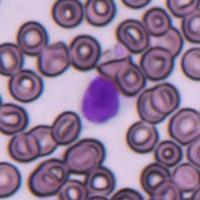L: (80, 73, 122, 124)
